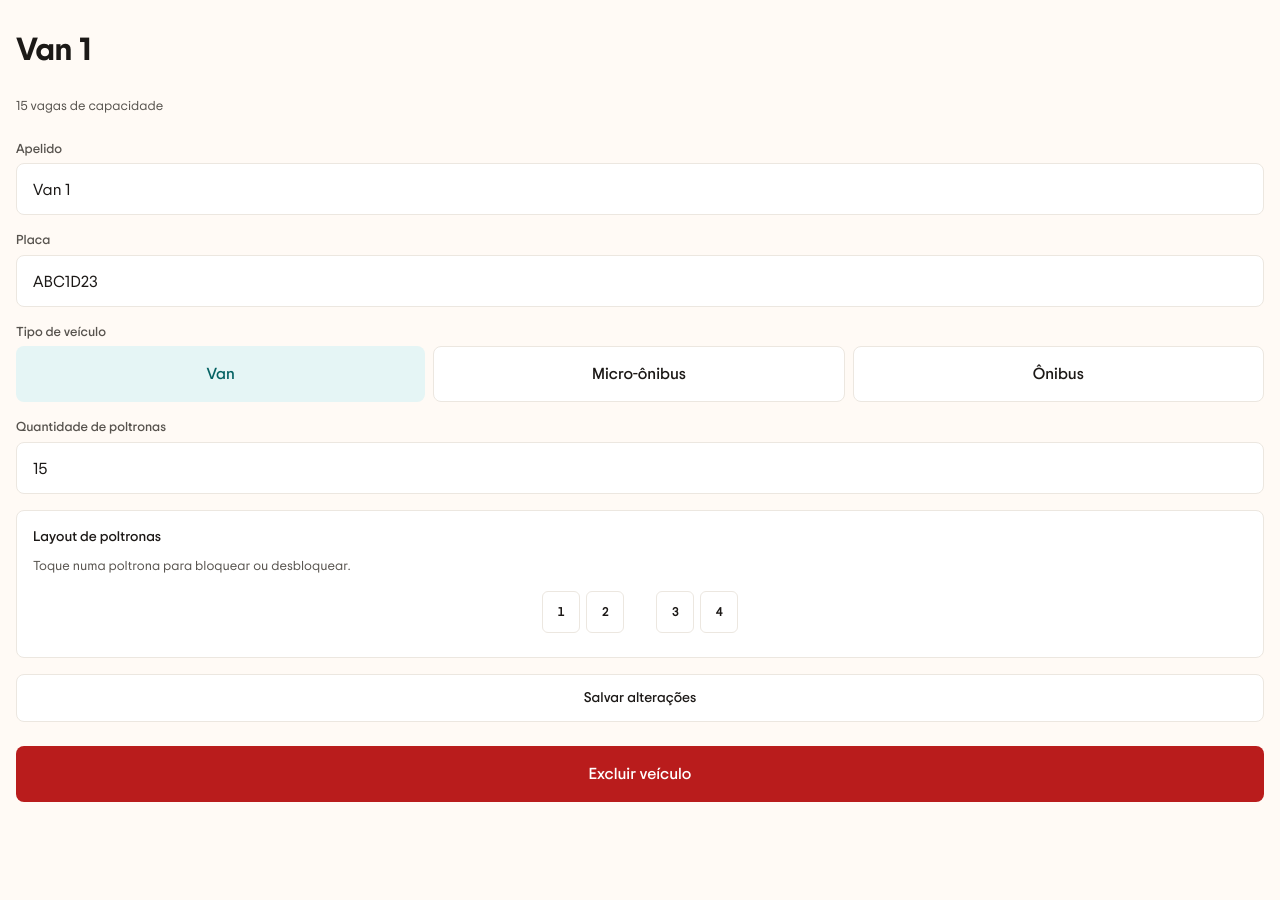
Test: VeiculoDetalhePage › bloqueia uma poltrona na grade e salva
This screenshot has width=1280, height=900.
Expected: the heading "Van 1" is shown, [16, 26, 91, 70]
Click the button named "Poltrona 3, livre. Toque para bloquear.". click: (675, 612)
box: [656, 591, 694, 633]
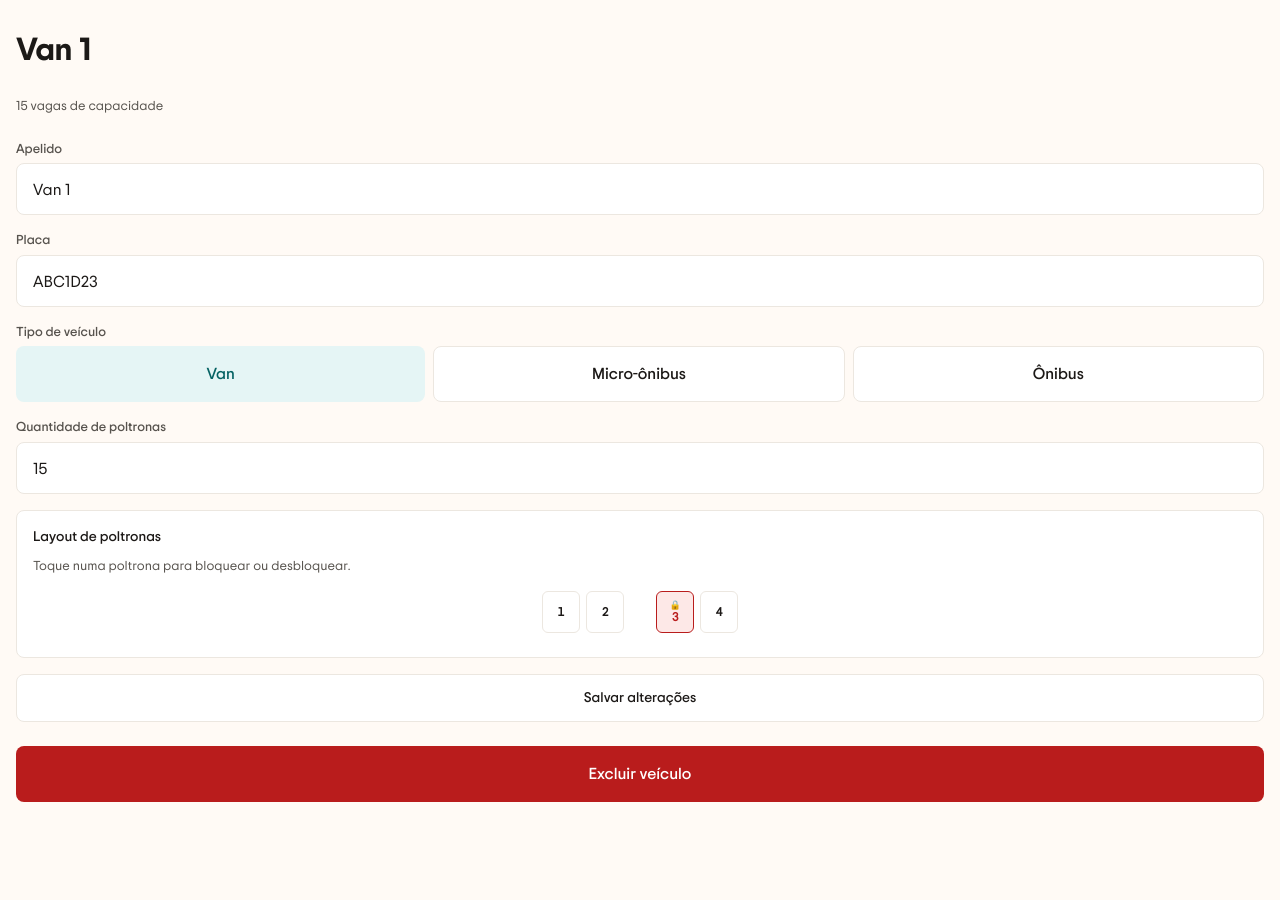
Expected: the button named "Poltrona 3, bloqueada. Toque para desbloquear." is shown, [656, 591, 694, 633]
Click the button "Salvar alterações". click: (640, 698)
box: [16, 674, 1264, 722]
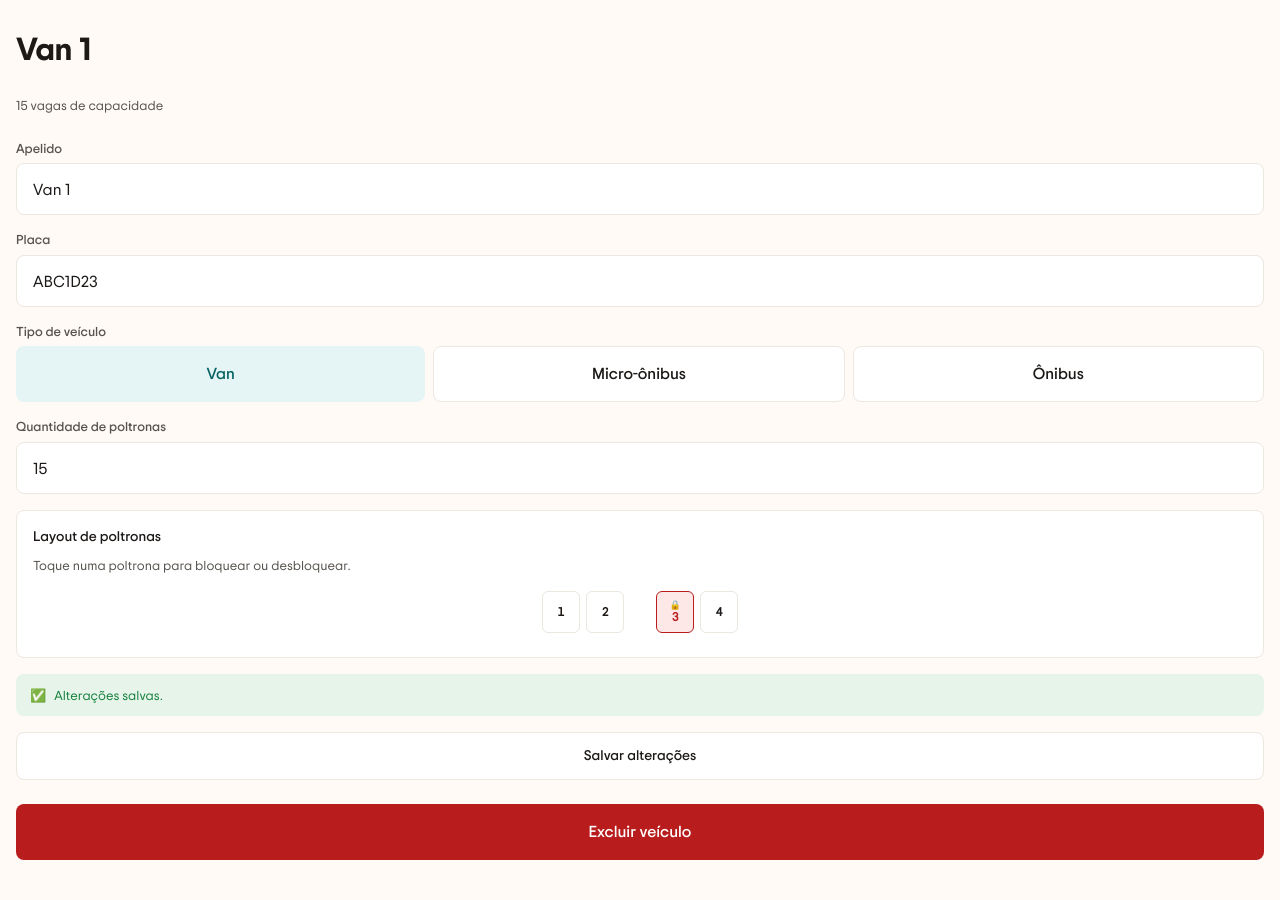
Expected: the text "Alterações salvas." is shown, [54, 686, 163, 704]
